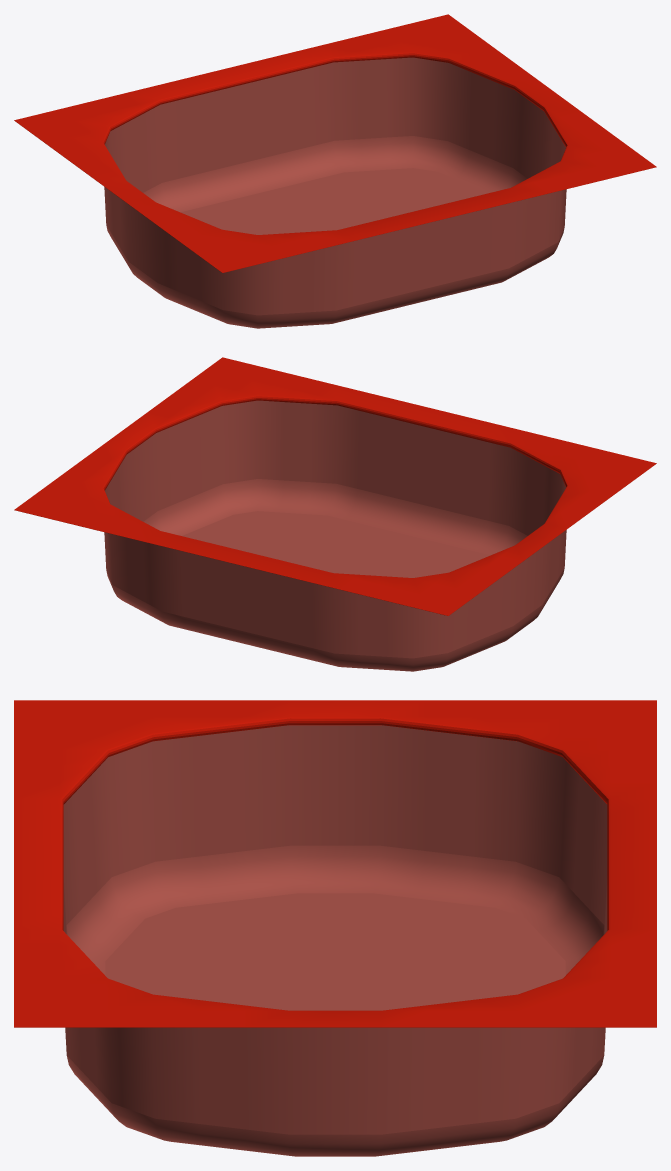
File: Body Hole.fbx
The picture shows the model from 3 angles, top to bottom: view 1: azimuth 30°, elevation 25°; view 2: azimuth 150°, elevation 25°; view 3: azimuth 270°, elevation 25°; orthographic projection. The views are drawn at different scales.
Parts seen in each view (by area): view 1: Cube_1, Cube_2; view 2: Cube_1, Cube_2; view 3: Cube_1, Cube_2.
Part boxes in pixels (x1,y1,x2,y2): Cube_1: (104,57,566,328); Cube_2: (14,14,656,272); Cube_1: (104,400,566,671); Cube_2: (14,357,656,615); Cube_1: (63,725,607,1156); Cube_2: (14,700,656,1027).
Size of the model in its own units: 45.24 by 10.32 by 37.62.
